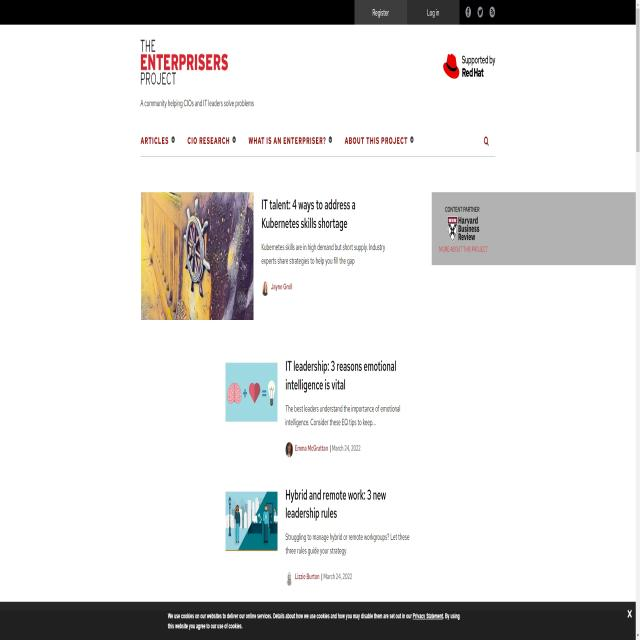tab-bar: (137, 128, 415, 156)
